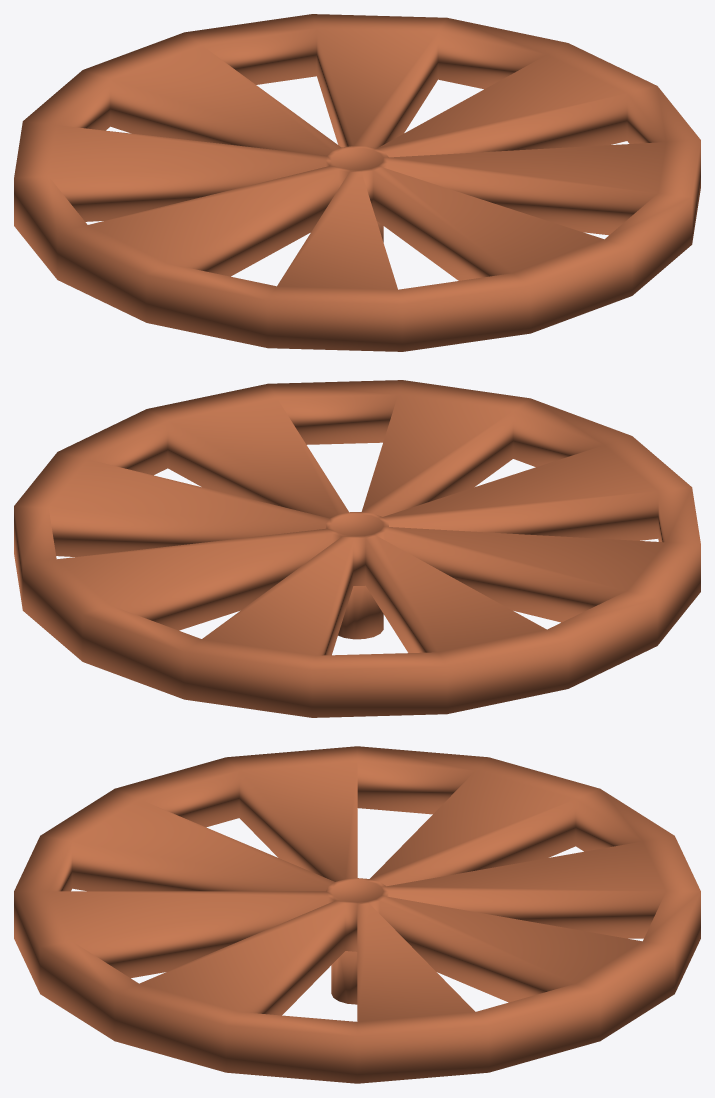
Rendered from [poo]_St1_Valve_Handle.fbx.
The picture shows the model from 3 angles, top to bottom: view 1: azimuth 30°, elevation 25°; view 2: azimuth 150°, elevation 25°; view 3: azimuth 270°, elevation 25°; orthographic projection.
Parts seen in each view (by area): view 1: Valve_Handle; view 2: Valve_Handle; view 3: Valve_Handle.
Boxes of the visible parts, x1=… form: Valve_Handle: x1=14, y1=14, x2=700, y2=351; Valve_Handle: x1=14, y1=380, x2=700, y2=717; Valve_Handle: x1=14, y1=746, x2=700, y2=1083.
Bounding box in the file's own units: 64.3 × 10.56 × 64.3.
